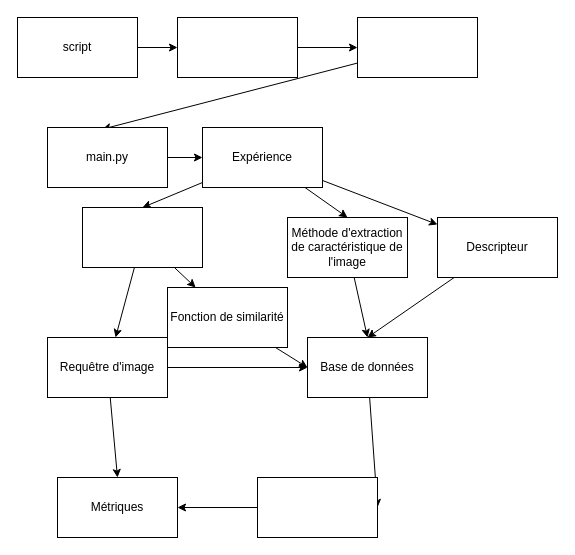
Some shapes in this 575 by 555 pixel diagram are drawn without their labels. Each missing label, with the box of its shape:
configuration: (356, 16, 478, 78)
Hydra: (176, 16, 298, 78)
Images similaires: (256, 476, 378, 538)
Évaluation: (82, 206, 202, 268)
